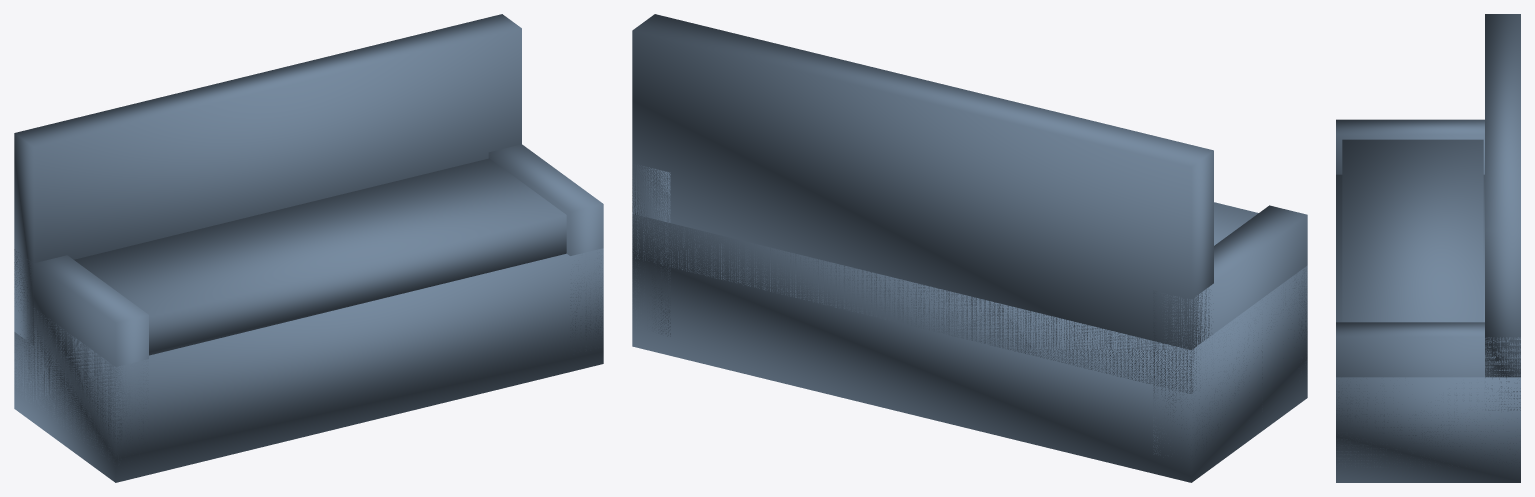
File: sofa__compact.glb
3 views of the same model, side by side, from view 1: azimuth 30°, elevation 25°; view 2: azimuth 150°, elevation 25°; view 3: azimuth 270°, elevation 25° (orthographic). The views are drawn at different scales.
Visible parts, largest first — view 1: world; view 2: world; view 3: world.
Boxes of the visible parts, x1,y1,x2,y2 form: world: (14,14,603,482); world: (632,14,1307,482); world: (1336,14,1520,482).
Bounding box in the file's own units: 1.72 × 0.9579 × 0.6192.
